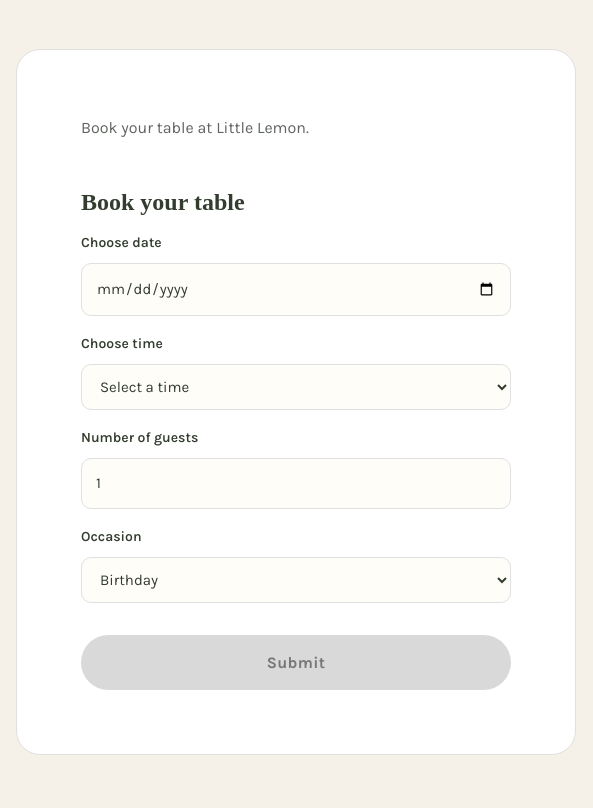
shows a user-facing message when submission fails
The width and height of the screenshot is (593, 808).
Step 1. Type "2026-04-04" into the date field labelled "Choose date" → (296, 290), box [81,263,511,316]
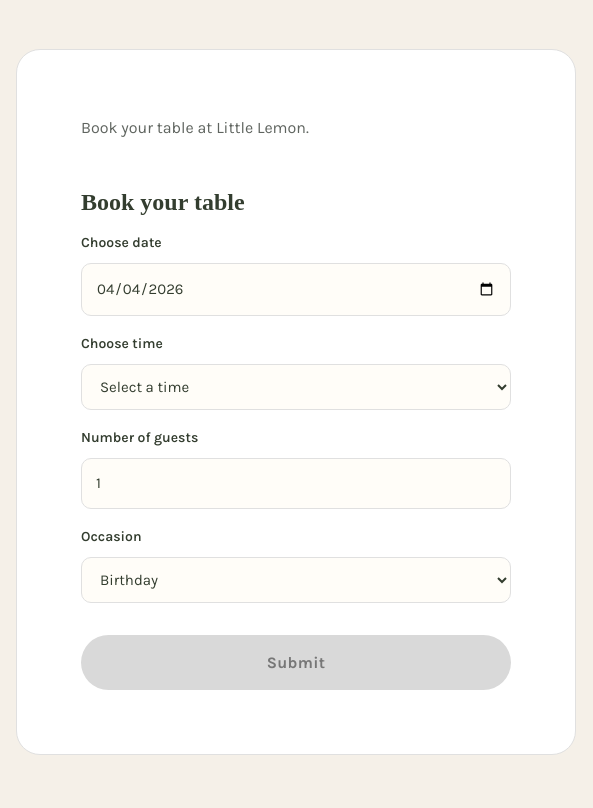
Step 2. Select "17:00" in the dropdown labelled "Choose time" → (296, 387), box [81,364,511,410]
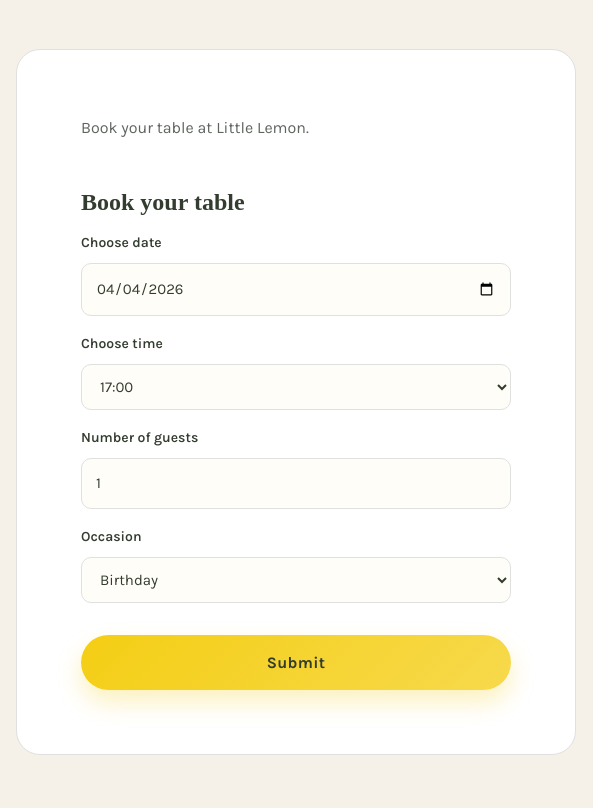
Step 3. Replace the text in the number field labelled "Number of guests" with "2" → (296, 484), box [81,458,511,510]
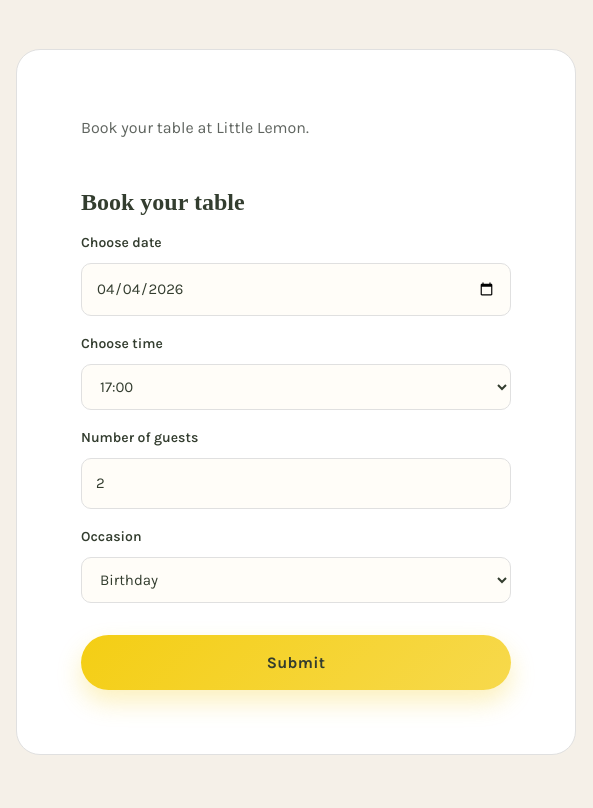
Step 4. Click the button named "submit booking form" → click(296, 663), box [81,635,511,690]
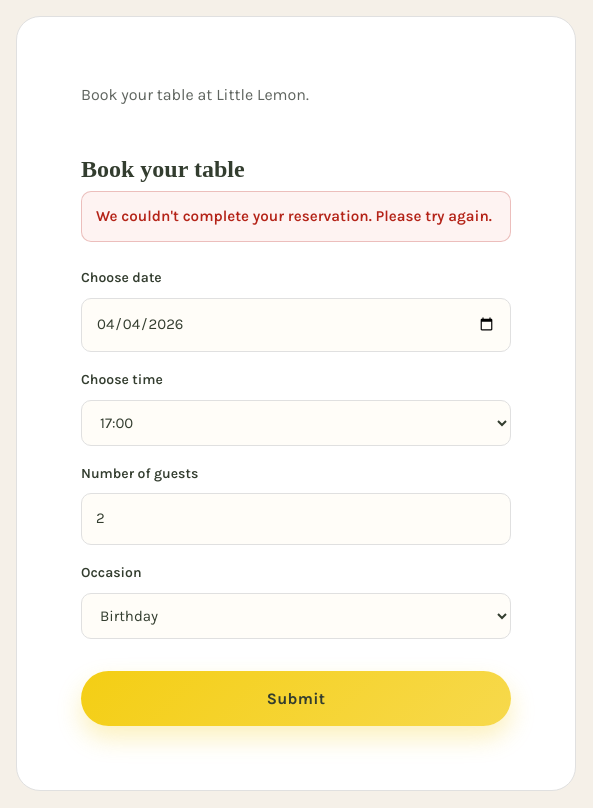
expect the text "We couldn't complete your reservation. Please try again." is shown: met, box [81,191,511,242]
